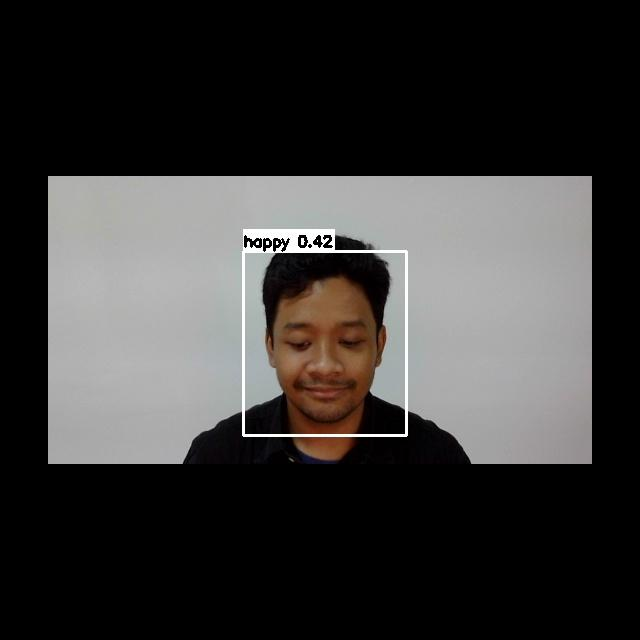Happy: (279, 306, 381, 396)
